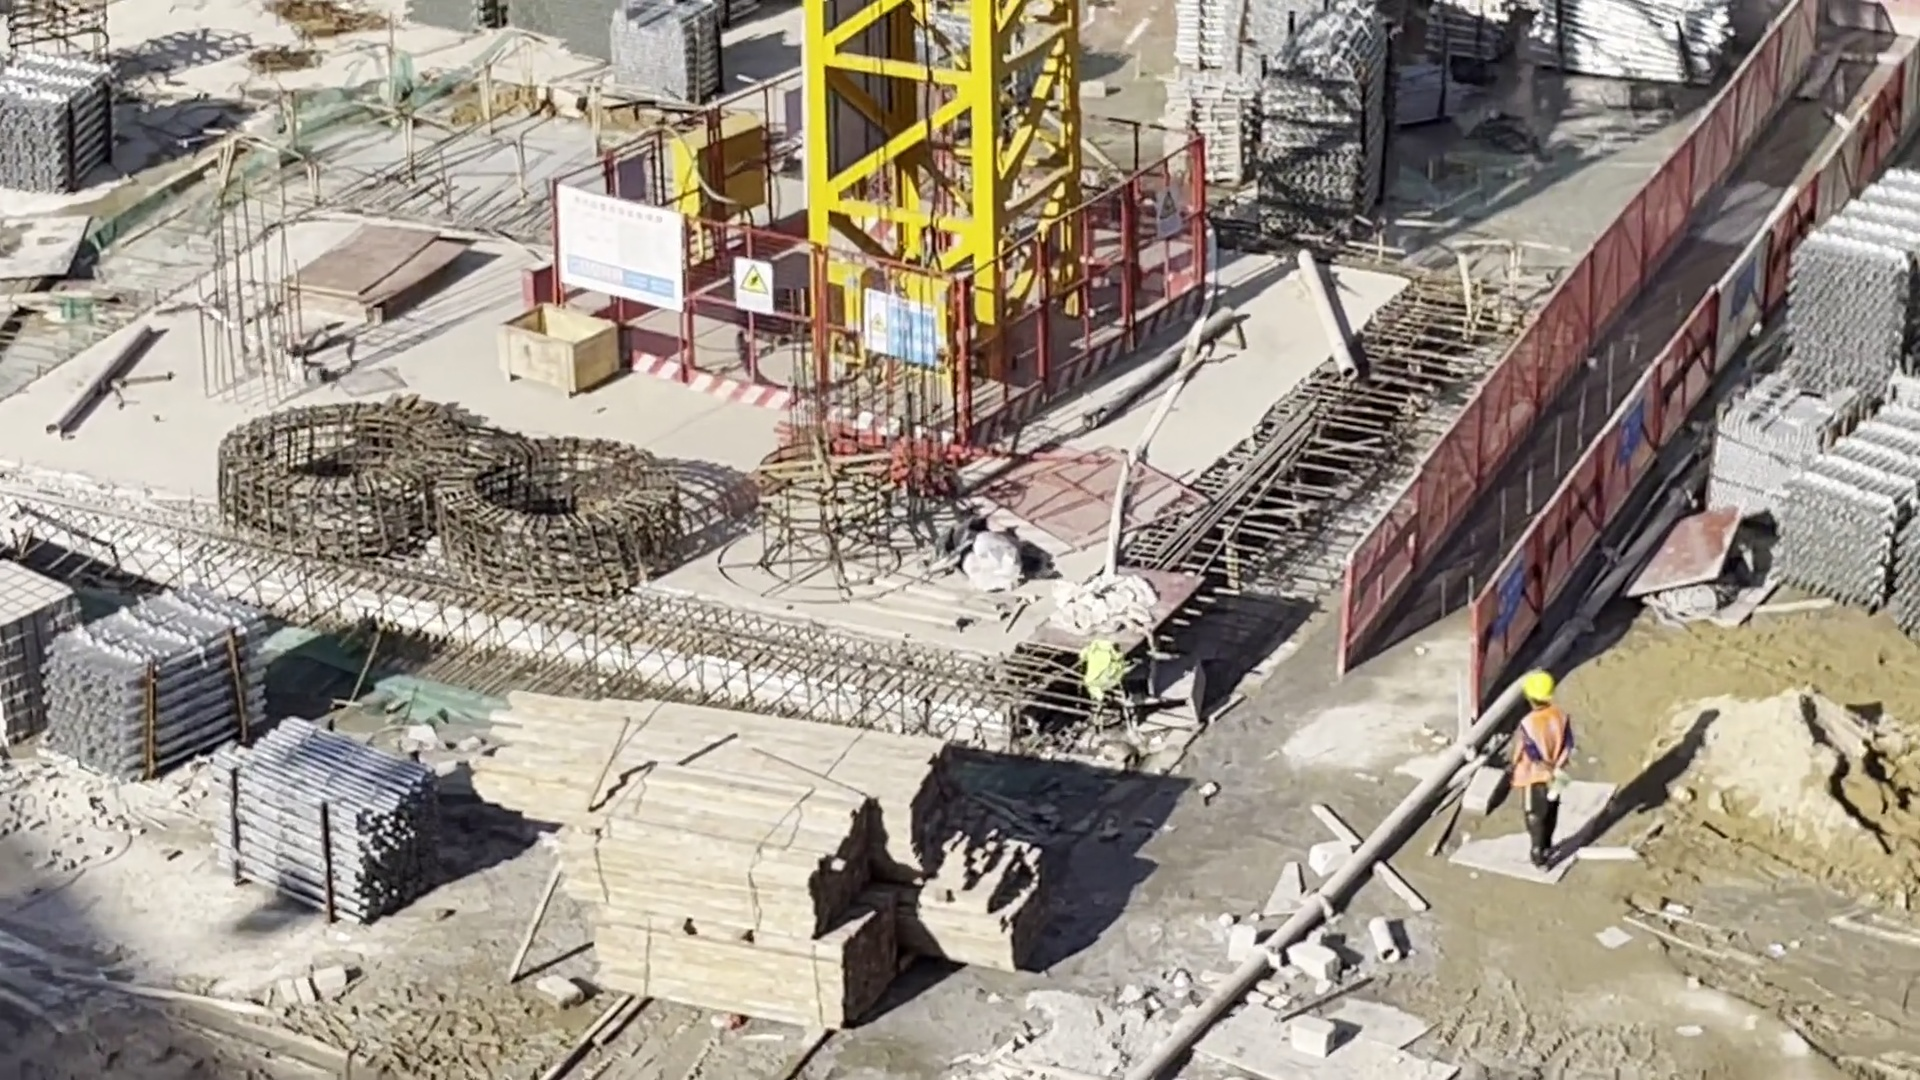board: (296, 230, 444, 320)
brick: (1, 556, 55, 745)
ebox: (678, 119, 766, 233)
fence: (1342, 4, 1908, 688)
helmet: (1523, 669, 1556, 703)
person: (1516, 670, 1565, 869)
scaffold: (215, 726, 435, 923), (50, 593, 261, 774), (1779, 385, 1920, 592), (1786, 174, 1919, 391), (1263, 11, 1383, 220), (1556, 1, 1732, 88), (1, 61, 113, 188), (412, 1, 609, 62), (608, 3, 720, 107), (1158, 65, 1255, 179), (1170, 1, 1320, 65), (1427, 1, 1527, 66)
slogan: (861, 289, 938, 373), (1496, 553, 1524, 638), (736, 258, 772, 317), (1623, 389, 1647, 468), (1155, 188, 1182, 233)
vest: (1518, 711, 1566, 783)
wood: (504, 703, 954, 893), (569, 773, 898, 1023)
